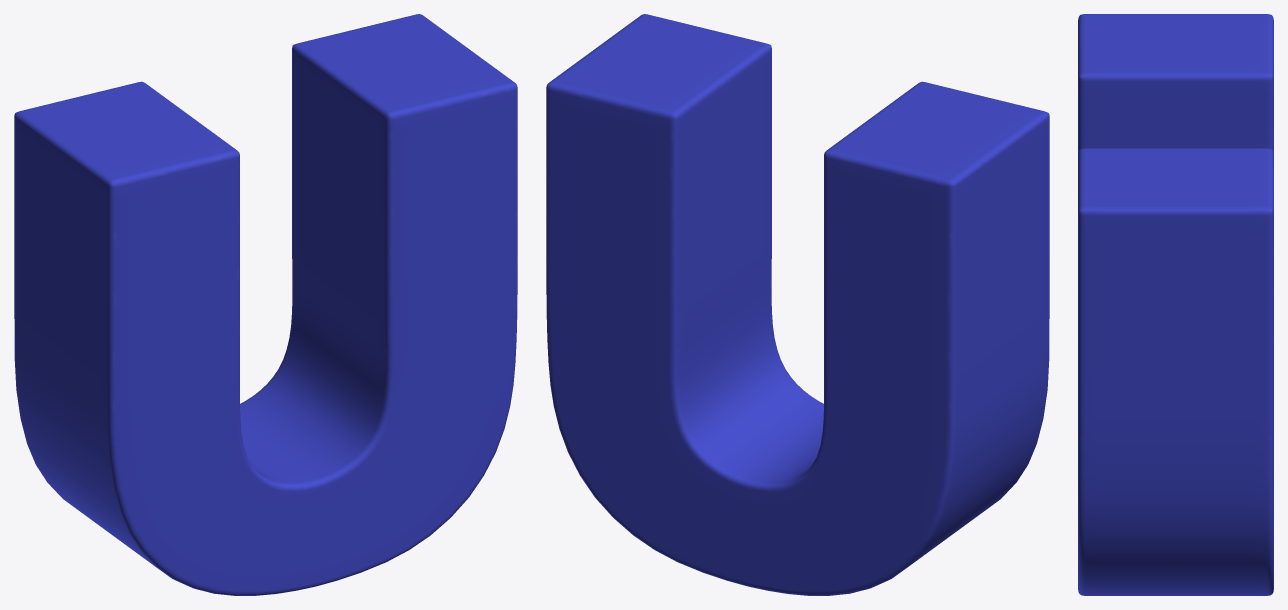
File: modelU.glb
3 renders of one model, left to right at view 1: azimuth 30°, elevation 25°; view 2: azimuth 150°, elevation 25°; view 3: azimuth 270°, elevation 25°, orthographic.
Parts seen in each view (by area): view 1: node_id146_1; view 2: node_id146_1; view 3: node_id146_1.
Part boxes in pixels (<box>): node_id146_1: <box>14,14,517,595</box>; node_id146_1: <box>546,14,1049,595</box>; node_id146_1: <box>1078,14,1273,595</box>.
Bounding box in the file's own units: 0.4809 × 0.512 × 0.2013.
Materials: 1 (1 with a texture image).
